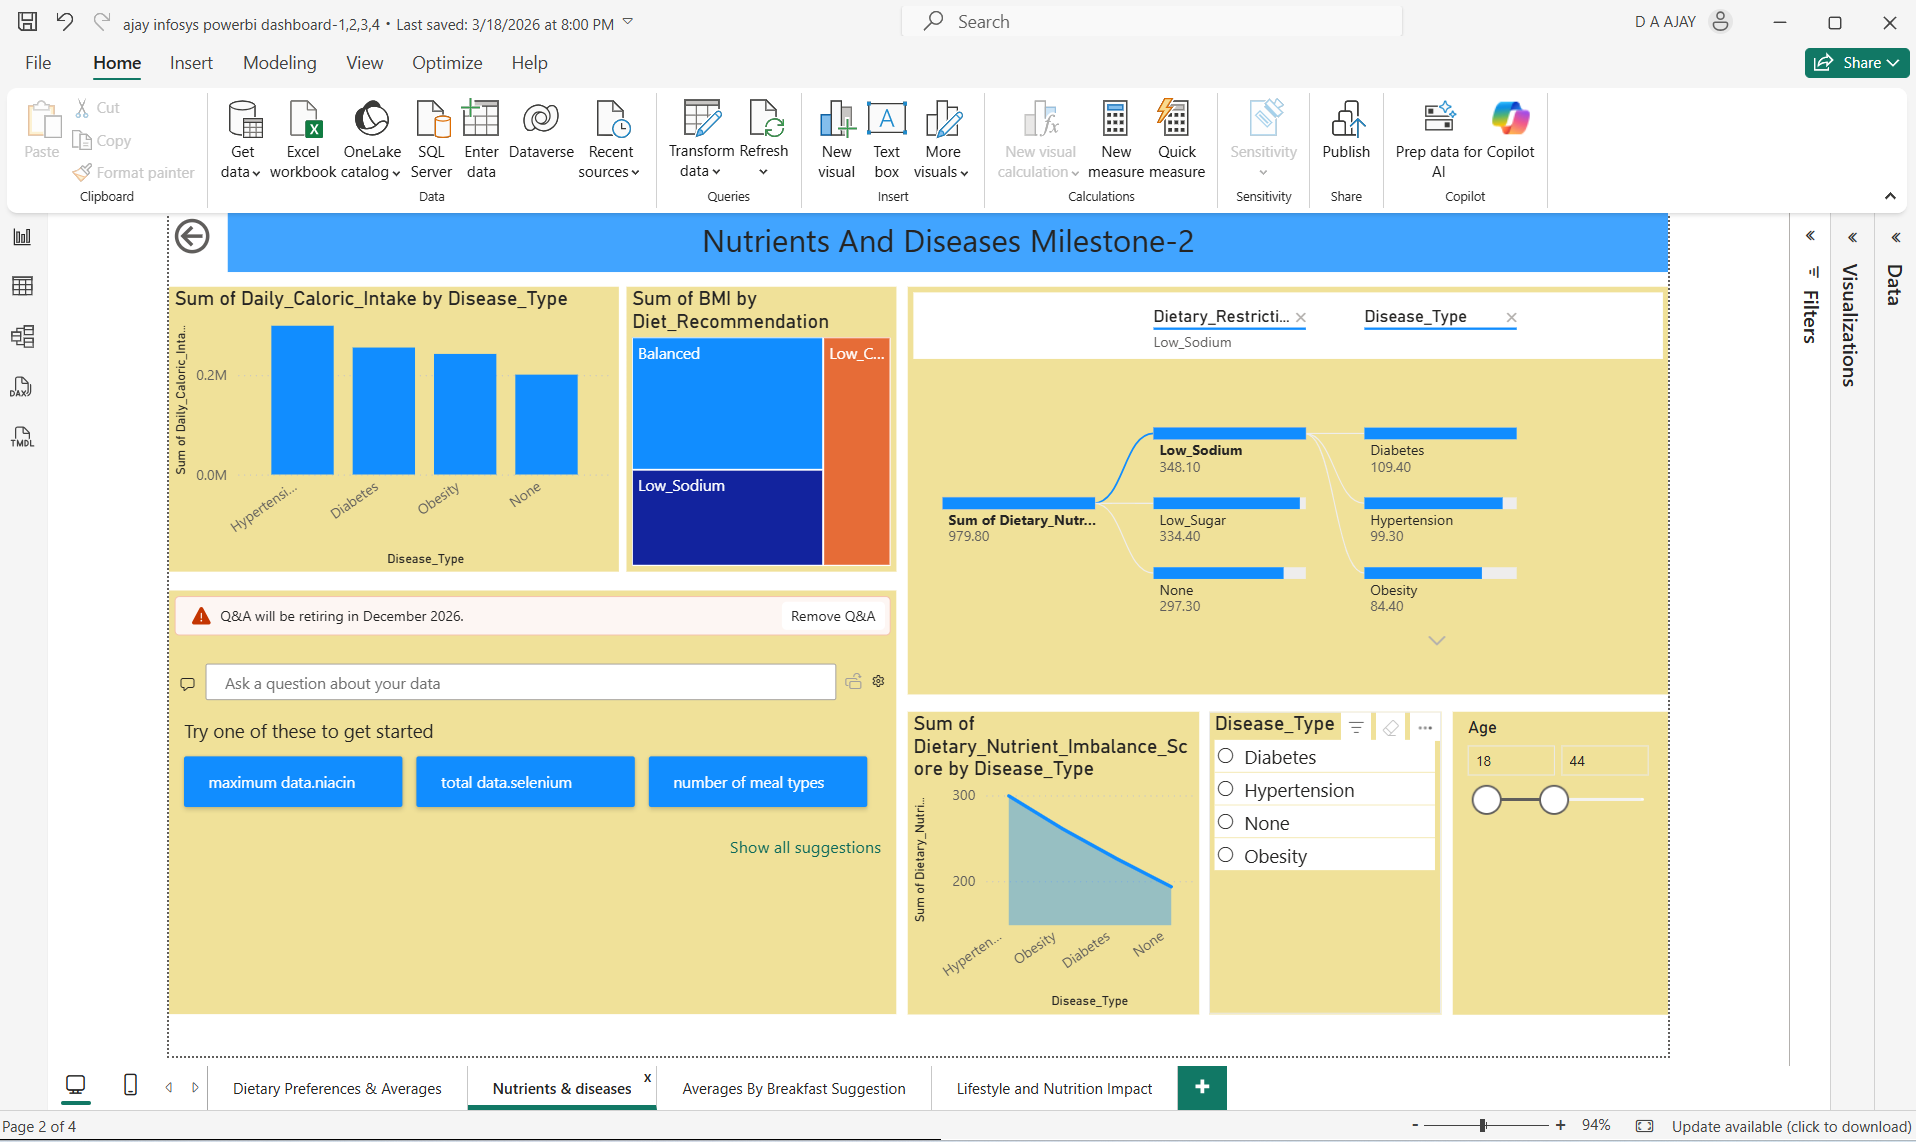

What the dashboard file says about the page in this screenshot:
{"tool":"powerbi","page":{"name":"Nutrients & diseases","canvas":[1280,720],"ordinal":1},"visuals":[{"type":"textbox","box":[50.1,0,1230.2,50.1],"z":0},{"type":"decompositionTreeVisual","fields":{"Analyze":["Sum(diet_recommendations_dataset.Dietary_Nutrient_Imbalance_Score)"],"ExplainBy":["diet_recommendations_dataset.Dietary_Restrictions","diet_recommendations_dataset.Disease_Type"]},"box":[630.6,63,649.8,347.8],"z":1000},{"type":"clusteredColumnChart","fields":{"Y":["Sum(diet_recommendations_dataset.Daily_Caloric_Intake)"],"Category":["diet_recommendations_dataset.Disease_Type"]},"box":[0,63,384.1,243.3],"z":2000},{"type":"slicer","fields":{"Values":["diet_recommendations_dataset.Age"]},"box":[1095.8,425.7,184.6,258.2],"z":3000},{"type":"listSlicer","fields":{"Values":["diet_recommendations_dataset.Disease_Type"]},"box":[887.7,425.7,198.5,258.2],"z":4000},{"type":"stackedAreaChart","fields":{"Y":["Sum(diet_recommendations_dataset.Dietary_Nutrient_Imbalance_Score)"],"Category":["diet_recommendations_dataset.Disease_Type"]},"box":[630.6,425.7,248.6,258.2],"z":5000},{"type":"treemap","fields":{"Values":["Sum(diet_recommendations_dataset.BMI)"],"Group":["diet_recommendations_dataset.Diet_Recommendation"]},"box":[390.5,63,230.5,243.3],"z":6000},{"type":"qnaVisual","box":[0,322.2,621,361.7],"z":7000},{"type":"actionButton","box":[0,0,100.3,39.5],"z":8000}]}

Visuals, with their boxes on the page's 1280x720 design canvas (x1, y1, x2, y2). These are canvas units, not pixel positions in the 1916x1142 screenshot, which may show the page scaled, cropped or inside an application window:
textbox: <bbox>50, 0, 1280, 50</bbox>
decompositionTreeVisual - Sum(diet_recommendations_dataset.Dietary_Nutrient_Imbalance_Score) x diet_recommendations_dataset.Dietary_Restrictions: <bbox>631, 63, 1280, 411</bbox>
clusteredColumnChart - Sum(diet_recommendations_dataset.Daily_Caloric_Intake) x diet_recommendations_dataset.Disease_Type: <bbox>0, 63, 384, 306</bbox>
slicer - diet_recommendations_dataset.Age: <bbox>1096, 426, 1280, 684</bbox>
listSlicer - diet_recommendations_dataset.Disease_Type: <bbox>888, 426, 1086, 684</bbox>
stackedAreaChart - Sum(diet_recommendations_dataset.Dietary_Nutrient_Imbalance_Score) x diet_recommendations_dataset.Disease_Type: <bbox>631, 426, 879, 684</bbox>
treemap - Sum(diet_recommendations_dataset.BMI) x diet_recommendations_dataset.Diet_Recommendation: <bbox>390, 63, 621, 306</bbox>
qnaVisual: <bbox>0, 322, 621, 684</bbox>
actionButton: <bbox>0, 0, 100, 40</bbox>
